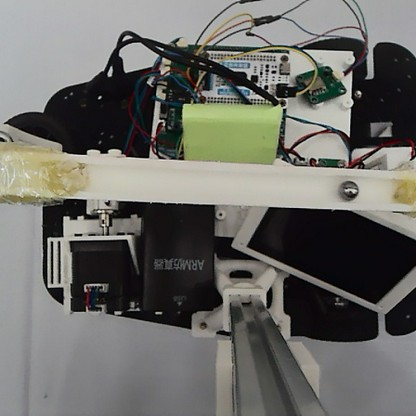ironball: (337, 178, 360, 201)
